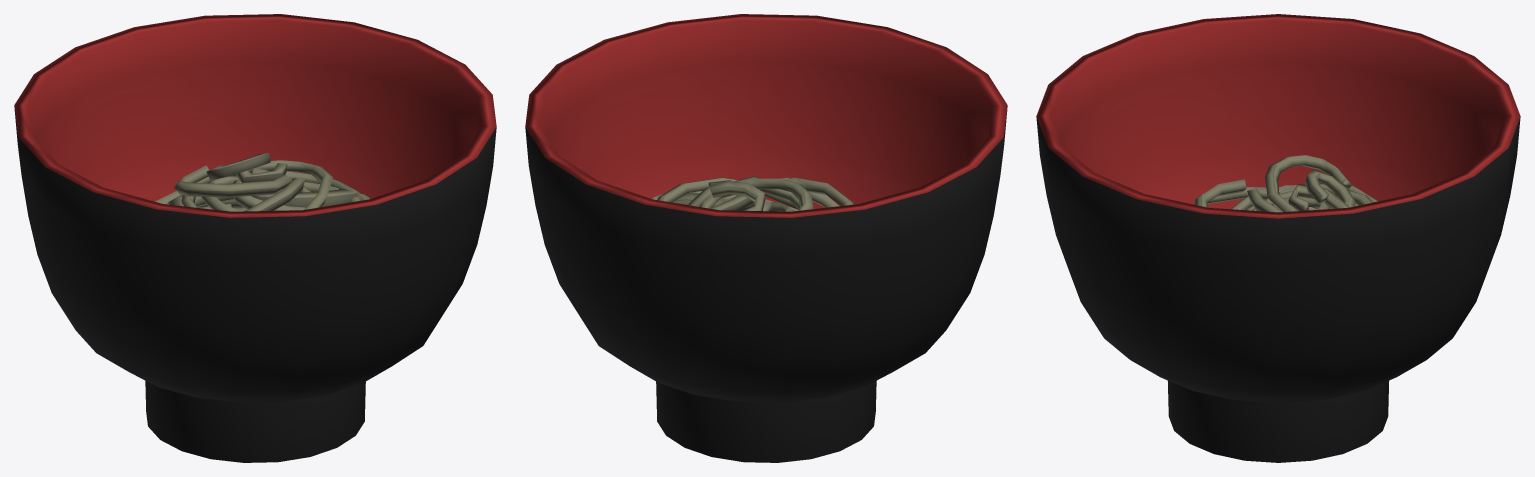
The model's file is SM_Soba_Bowl.fbx.
3 renders of one model, left to right at view 1: azimuth 30°, elevation 25°; view 2: azimuth 150°, elevation 25°; view 3: azimuth 270°, elevation 25°, orthographic.
Visible parts, largest first — view 1: SM_SobaBowl2, SM_Soba2; view 2: SM_SobaBowl2, SM_Soba2; view 3: SM_SobaBowl2, SM_Soba2.
Part boxes in pixels (left/top/right/bottom): SM_SobaBowl2: left=14, top=14, right=496, bottom=462; SM_Soba2: left=155, top=153, right=370, bottom=211; SM_SobaBowl2: left=525, top=14, right=1007, bottom=462; SM_Soba2: left=651, top=176, right=854, bottom=211; SM_SobaBowl2: left=1036, top=14, right=1520, bottom=462; SM_Soba2: left=1194, top=155, right=1377, bottom=212.
Bounding box in the file's own units: 13.77 × 9.42 × 13.77.
